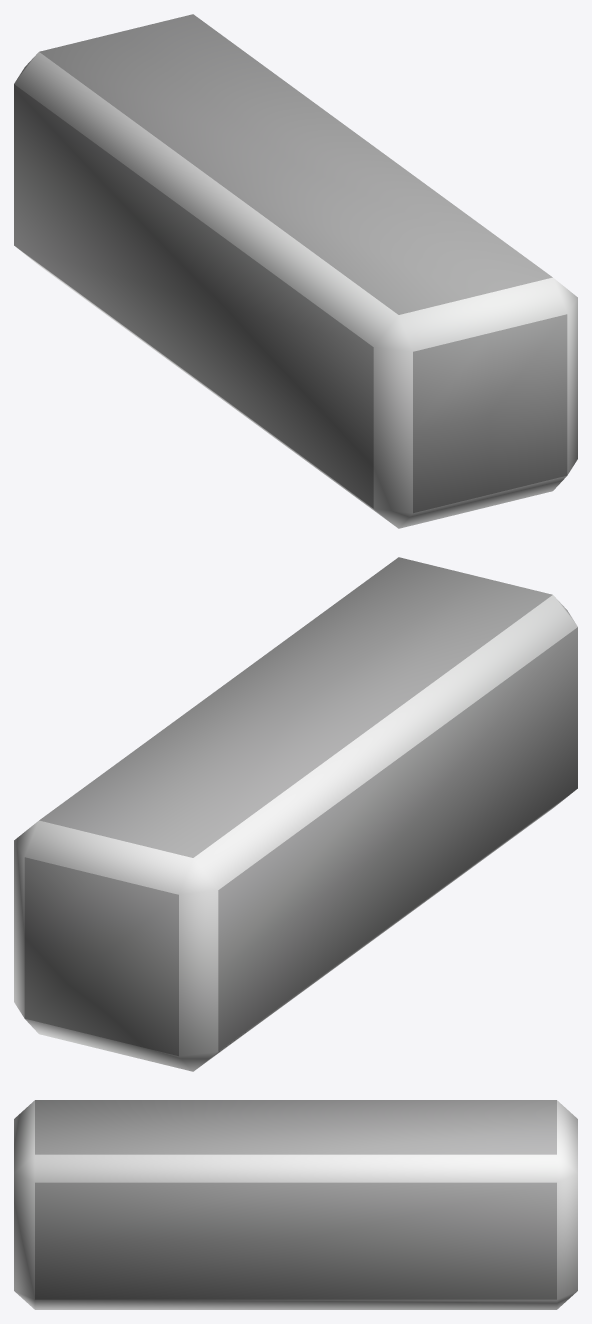
Rendered from SM_Cubes_Impact.fbx.
The picture shows the model from 3 angles, top to bottom: view 1: azimuth 30°, elevation 25°; view 2: azimuth 150°, elevation 25°; view 3: azimuth 270°, elevation 25°; orthographic projection. The views are drawn at different scales.
Visible parts, largest first — view 1: SM_Cubes.001; view 2: SM_Cubes.001; view 3: SM_Cubes.001.
Part boxes in pixels (x1=…): SM_Cubes.001: x1=14, y1=14, x2=577, y2=528; SM_Cubes.001: x1=14, y1=557, x2=577, y2=1071; SM_Cubes.001: x1=14, y1=1100, x2=577, y2=1309.
Size of the model in its own units: 32.71 by 32.71 by 108.
